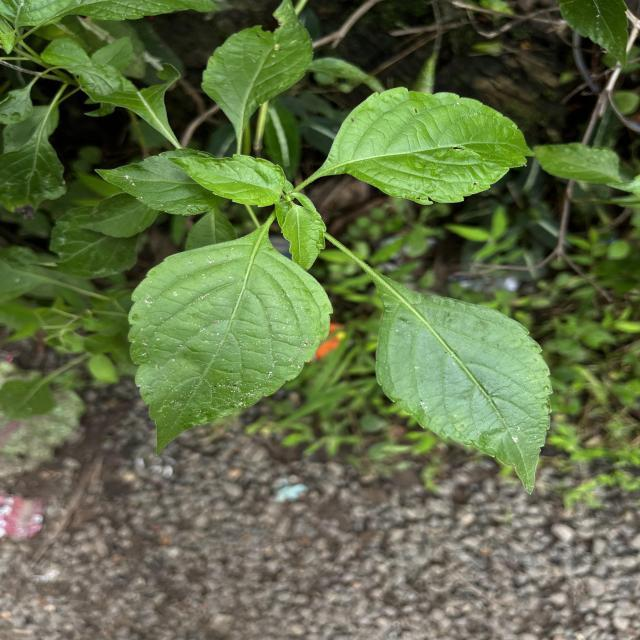Ocimum gratissimum: (351, 252, 558, 498), (122, 222, 336, 459), (312, 81, 538, 209), (197, 0, 317, 154), (162, 150, 291, 210)
